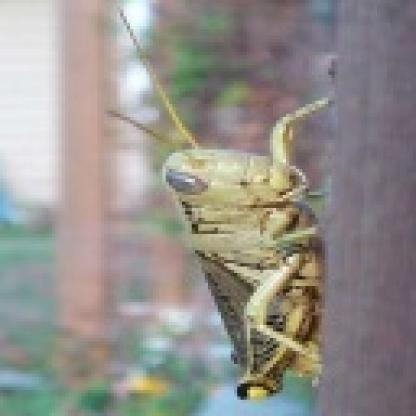grasshopper: (142, 76, 346, 405)
